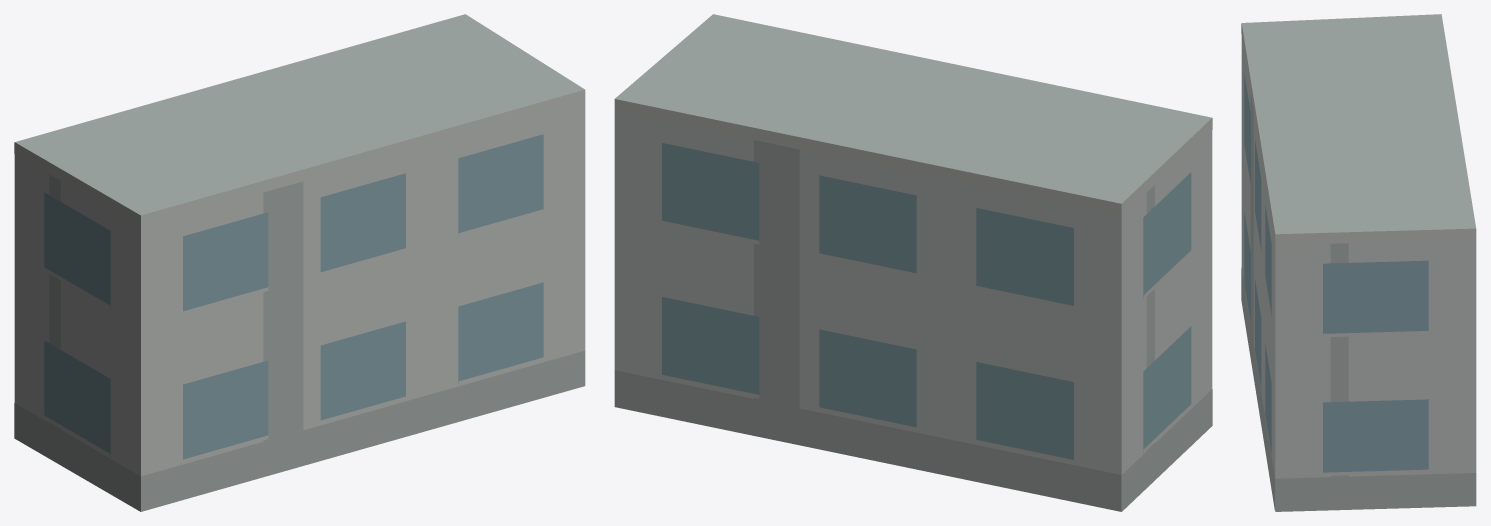
Rendered from survey-upis-32607876.glb.
3 views of the same model, side by side, from view 1: azimuth 30°, elevation 25°; view 2: azimuth 150°, elevation 25°; view 3: azimuth 270°, elevation 25° (orthographic). The views are drawn at different scales.
Parts seen in each view (by area): view 1: survey-upis-32607876.tmp; view 2: survey-upis-32607876.tmp; view 3: survey-upis-32607876.tmp.
Boxes of the visible parts, box(x1,y1,x2,y2) form: survey-upis-32607876.tmp: box(14, 14, 585, 511); survey-upis-32607876.tmp: box(614, 14, 1212, 511); survey-upis-32607876.tmp: box(1241, 14, 1476, 511).
Size of the model in its own units: 10.39 by 6.1 by 4.68.
